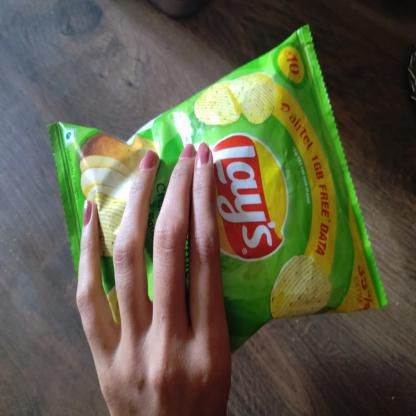cream_and_onion: (48, 25, 386, 383)
